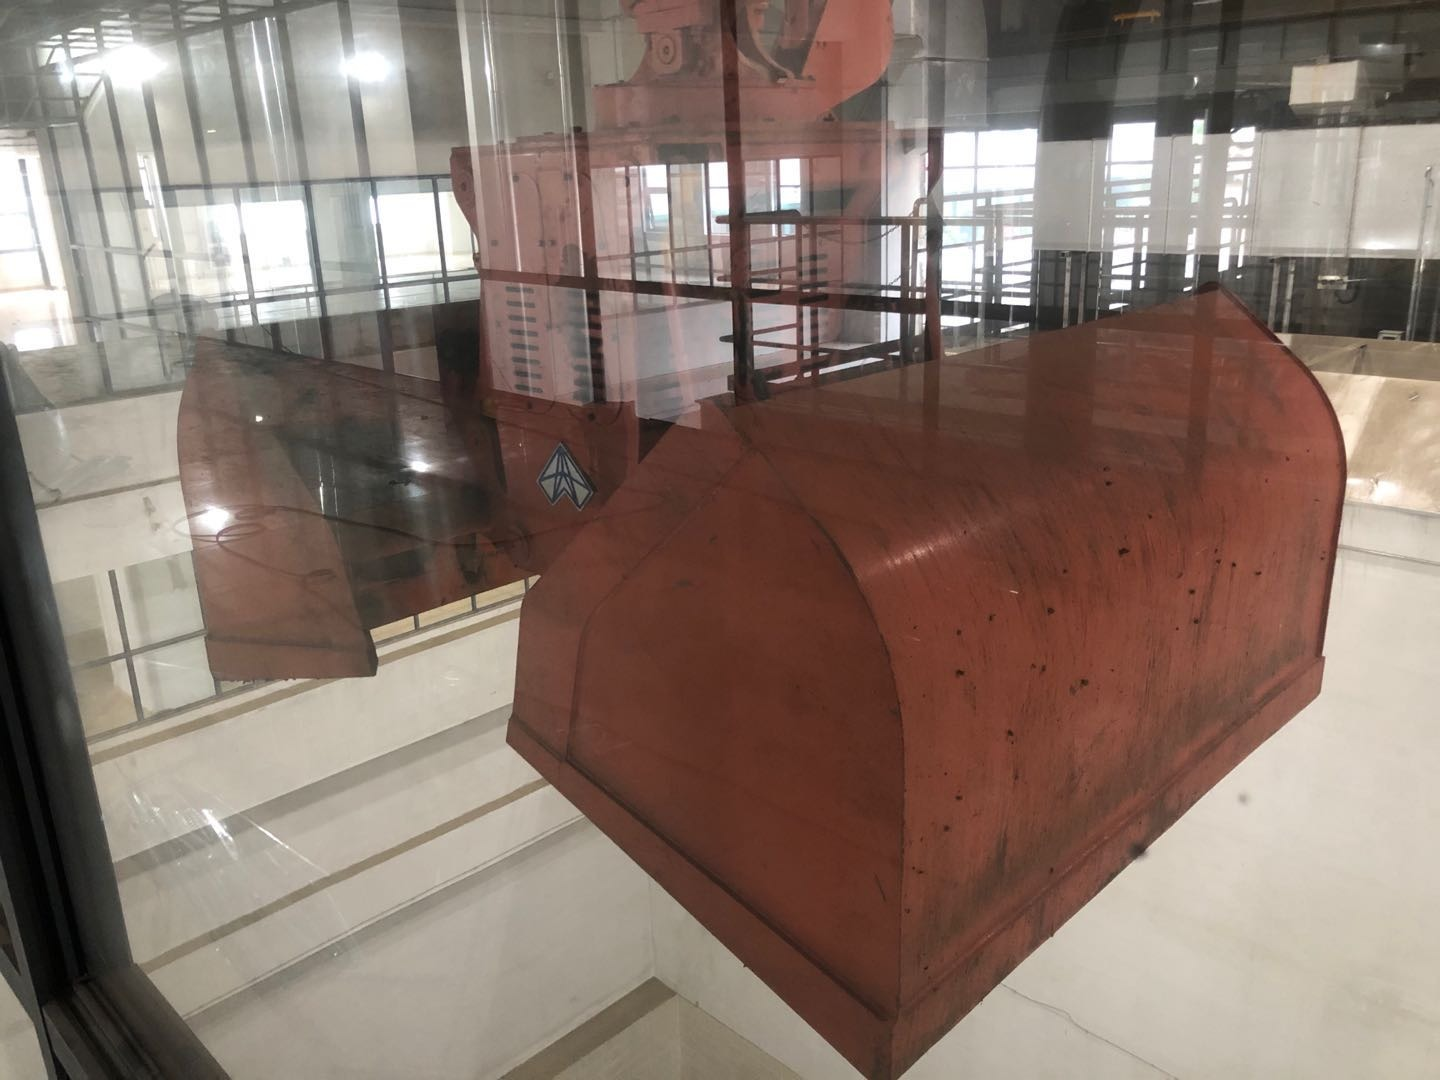grab: (169, 5, 1362, 1058)
